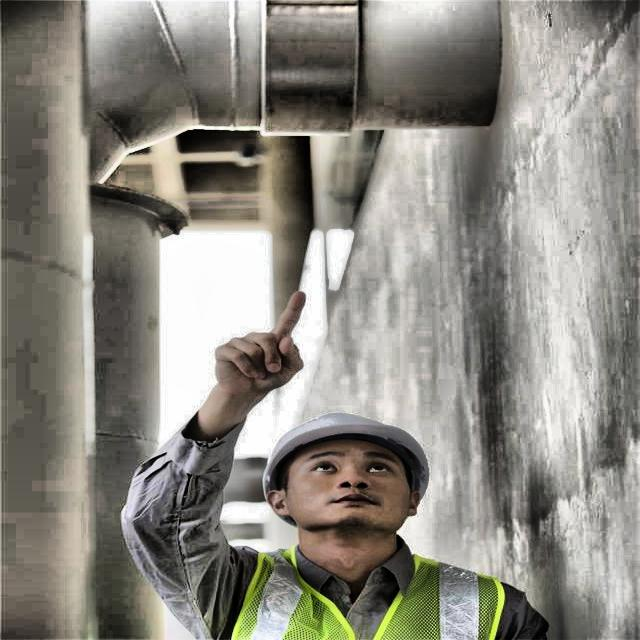helmet: (262, 409, 424, 540)
